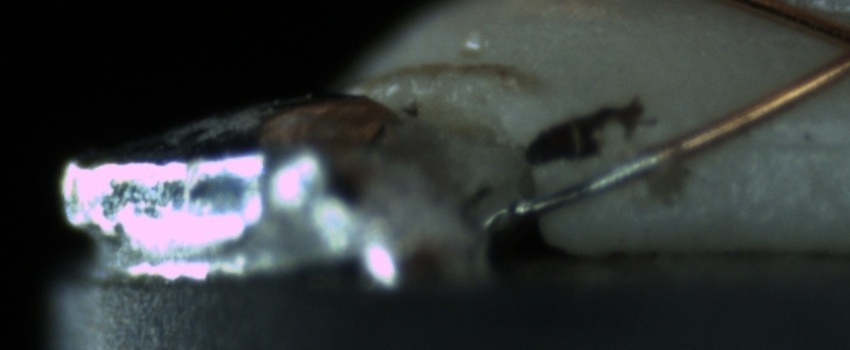CL: (808, 11, 850, 82)
DL: (747, 106, 849, 176)
TS: (498, 151, 668, 220)
TTCW: (493, 126, 716, 224)
